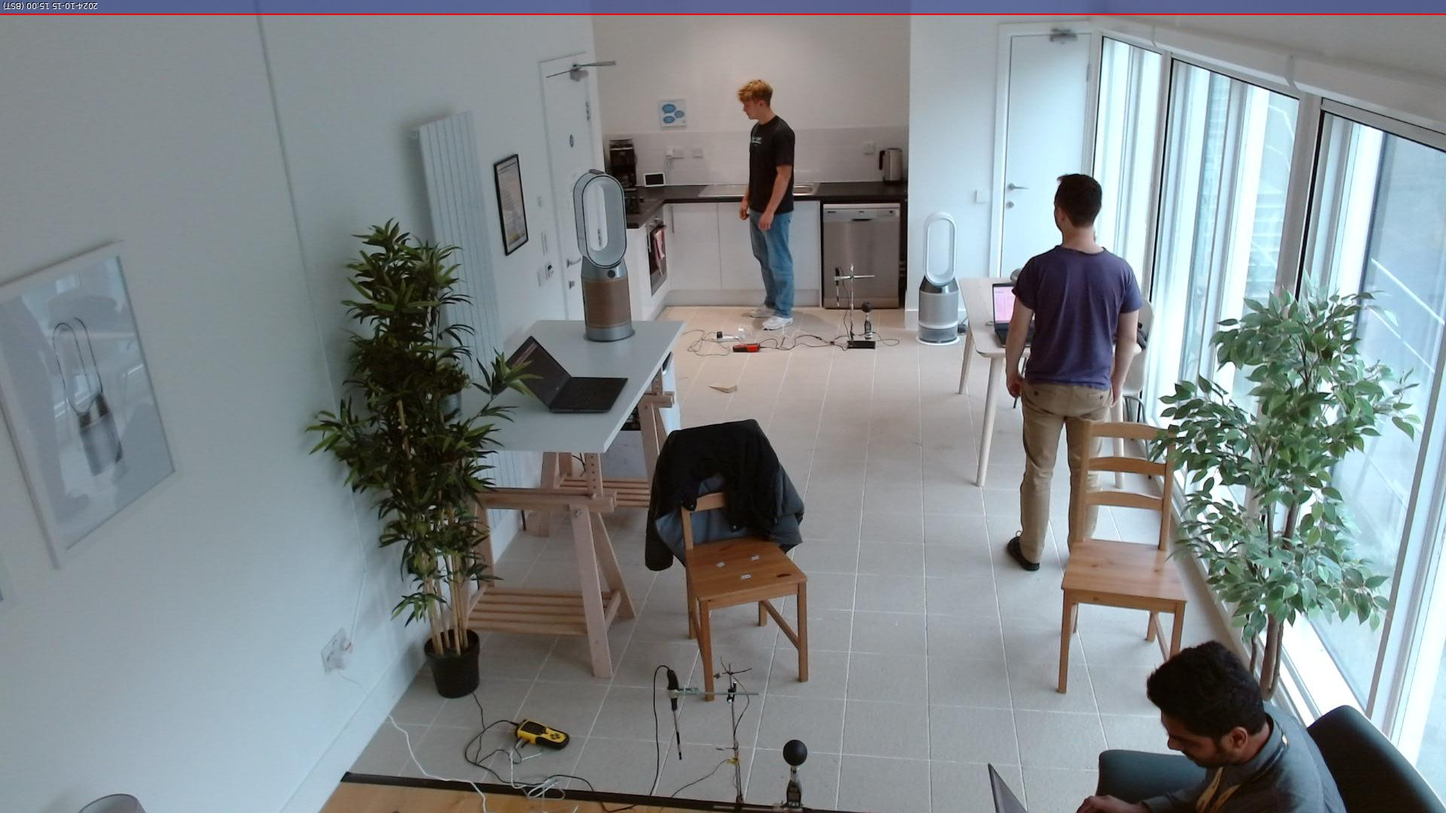long sleeve shirt: (1143, 702, 1348, 813)
short sleeve shirt: (1009, 245, 1143, 393), (743, 115, 798, 212)
trousers: (1018, 371, 1109, 563), (749, 201, 798, 321)
